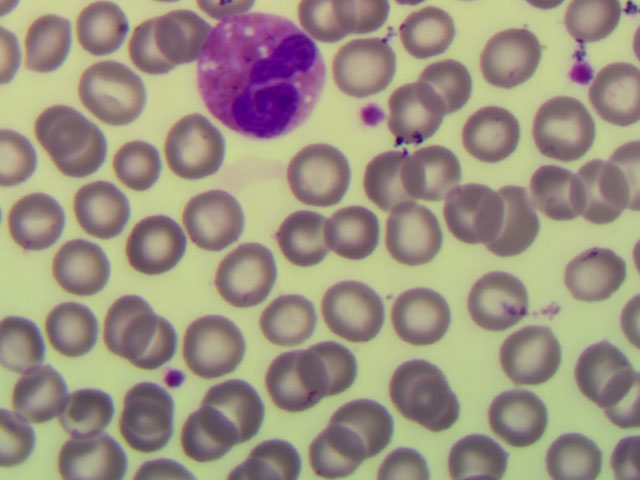Platelets: (147, 357, 197, 410), (551, 40, 600, 93), (517, 286, 566, 339), (391, 126, 442, 167), (354, 99, 386, 130)
RBC: (443, 184, 518, 243), (572, 162, 634, 229), (578, 301, 640, 368), (565, 236, 627, 303), (464, 263, 526, 330), (185, 315, 247, 377), (260, 348, 322, 410), (480, 25, 542, 87), (496, 325, 559, 386), (531, 96, 594, 157), (164, 117, 228, 177), (287, 145, 349, 205), (580, 349, 640, 411), (77, 63, 140, 120), (389, 201, 442, 268), (216, 246, 276, 305), (482, 191, 541, 251), (465, 104, 524, 164), (391, 285, 451, 343), (183, 188, 244, 242), (389, 359, 447, 415), (488, 385, 546, 441), (323, 281, 383, 335), (332, 38, 390, 93), (453, 417, 503, 480), (589, 63, 640, 124), (204, 382, 260, 437), (333, 402, 396, 450), (381, 432, 444, 480), (298, 423, 361, 471), (150, 8, 205, 62), (103, 295, 151, 354), (545, 432, 603, 480), (294, 341, 352, 389), (62, 433, 122, 479), (401, 2, 457, 51), (389, 84, 439, 137), (75, 2, 126, 52), (422, 56, 467, 110), (130, 223, 182, 269), (12, 370, 64, 416), (60, 387, 112, 433), (264, 292, 316, 338), (120, 403, 172, 449), (120, 382, 172, 428), (75, 183, 127, 229), (326, 210, 378, 256), (277, 214, 329, 260), (37, 105, 89, 151), (53, 127, 105, 173), (7, 194, 59, 240), (43, 301, 95, 347), (123, 318, 175, 364), (54, 243, 106, 289), (182, 410, 234, 456), (256, 426, 308, 472), (415, 377, 461, 428), (1, 125, 38, 186), (20, 22, 69, 68), (564, 1, 619, 41), (1, 419, 51, 463), (298, 1, 364, 34), (114, 139, 159, 184), (323, 1, 392, 30), (1, 321, 40, 370), (610, 429, 640, 480), (224, 456, 284, 480), (1, 23, 21, 83), (1, 1, 32, 17)
WBC: (203, 28, 321, 125)
